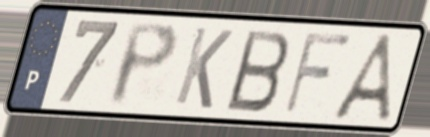7: (55, 17, 123, 105)
A: (328, 31, 398, 126)
B: (223, 27, 293, 115)
F: (279, 29, 356, 118)
K: (171, 24, 236, 112)
P: (106, 20, 182, 110)
